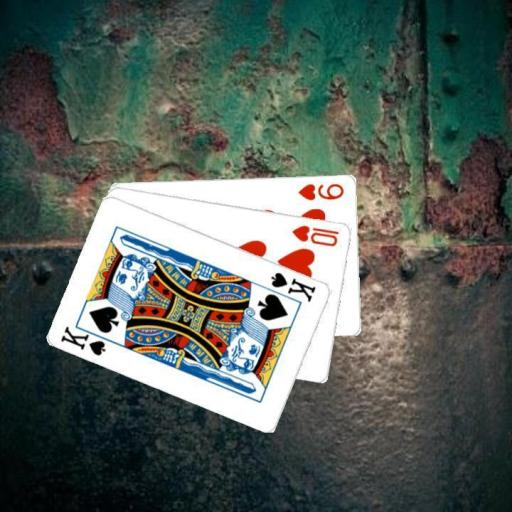card-corner: (58, 321, 116, 357), (268, 269, 318, 303), (290, 221, 340, 248), (295, 180, 346, 201)
